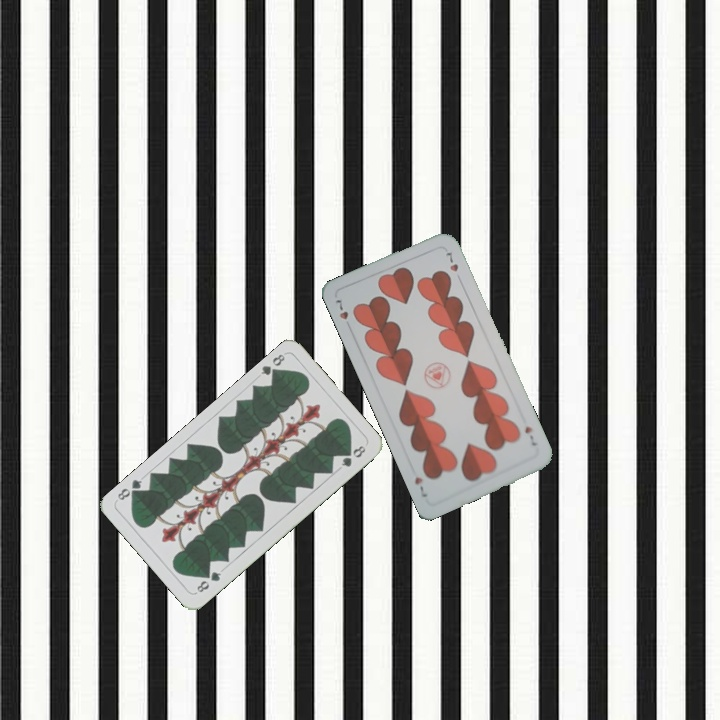G8: (257, 349, 288, 381), (192, 567, 224, 595)
H7: (332, 294, 354, 332), (521, 422, 539, 448)
